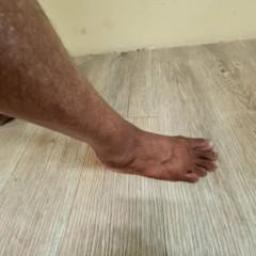Lateral View -Right Foot-: (70, 104, 232, 200)
